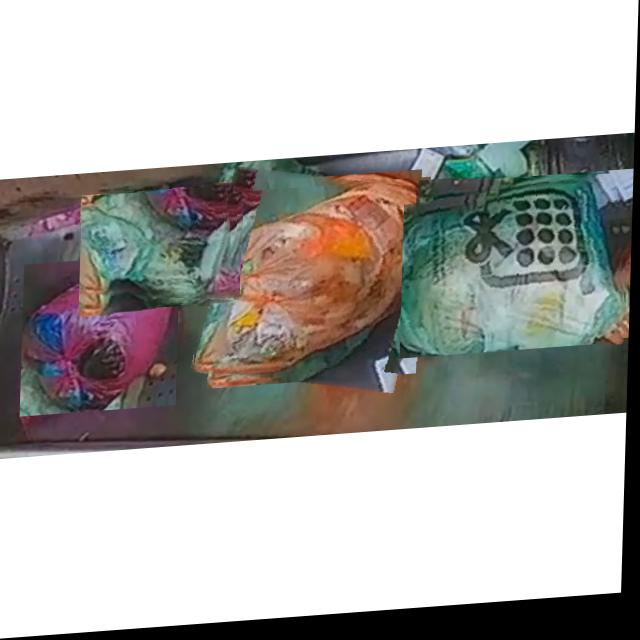general_trashbag: (403, 189, 626, 362), (82, 194, 232, 302)
other_trashbag: (195, 187, 434, 379), (24, 257, 181, 412)
